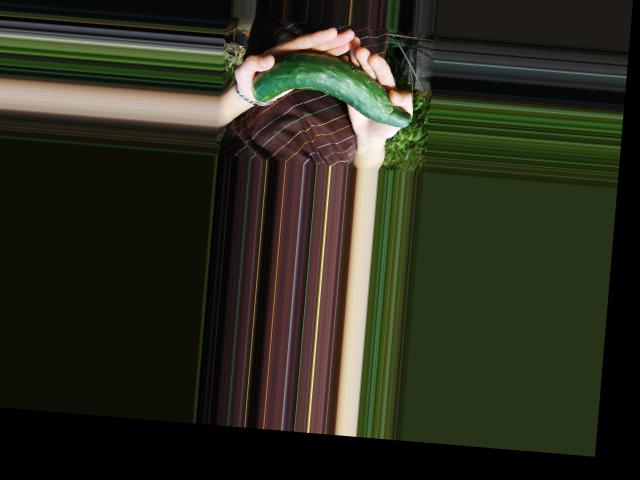cucumber: (248, 47, 415, 128)
